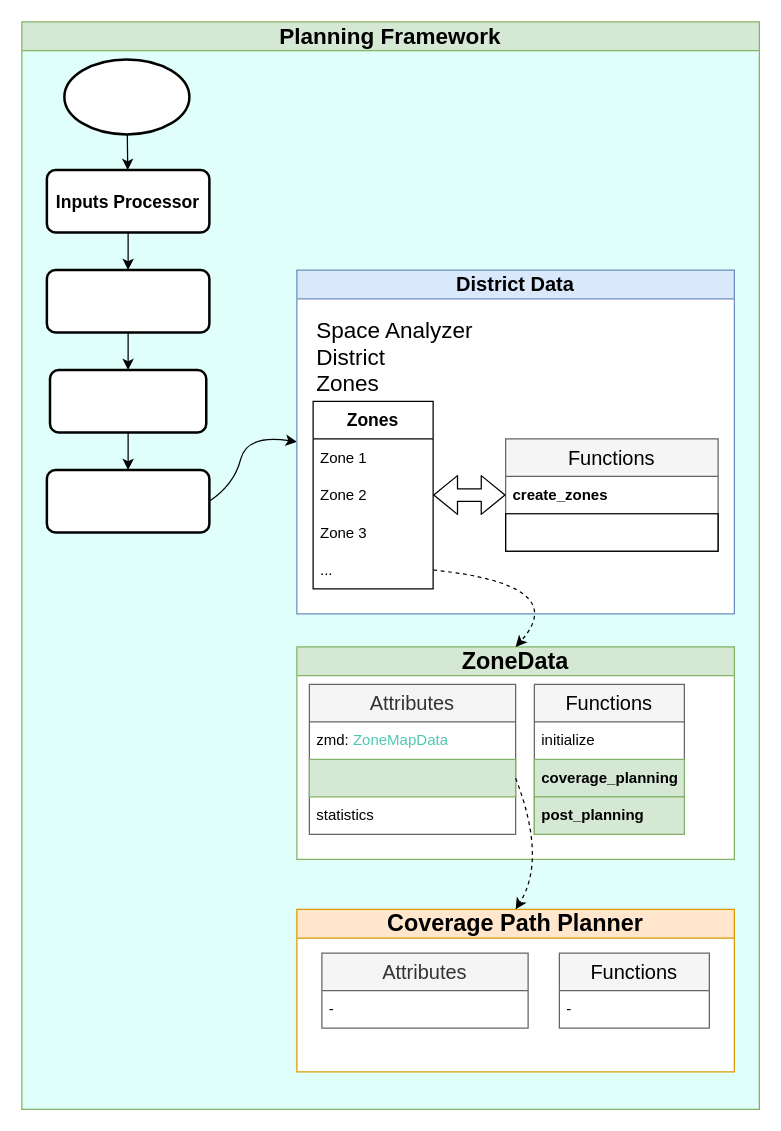
Image size: 781x1131. Some labels were removed from this diagram. Here are the shapes that lost their labels. From the top down, the centre of each, then its label:
At point 126,96: "Input Data Configs".
At point 127,300: "Map Image Processor".
At point 127,400: "District Gen".
At point 127,500: "Space Analyzer".
At point 611,531: "run_coverage_planning".
At point 412,777: "cov_planner: CoveragePP".
